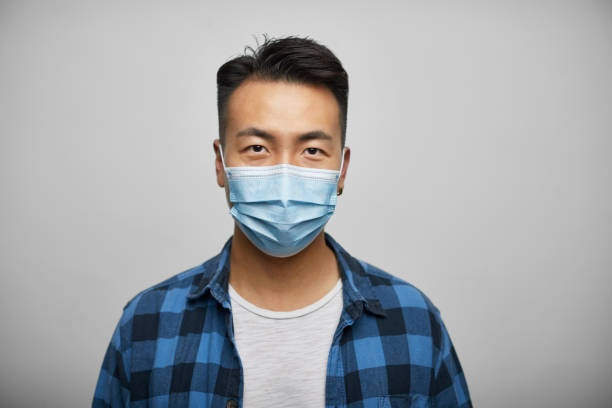mask: (212, 36, 352, 255)
person: (91, 36, 474, 408)
